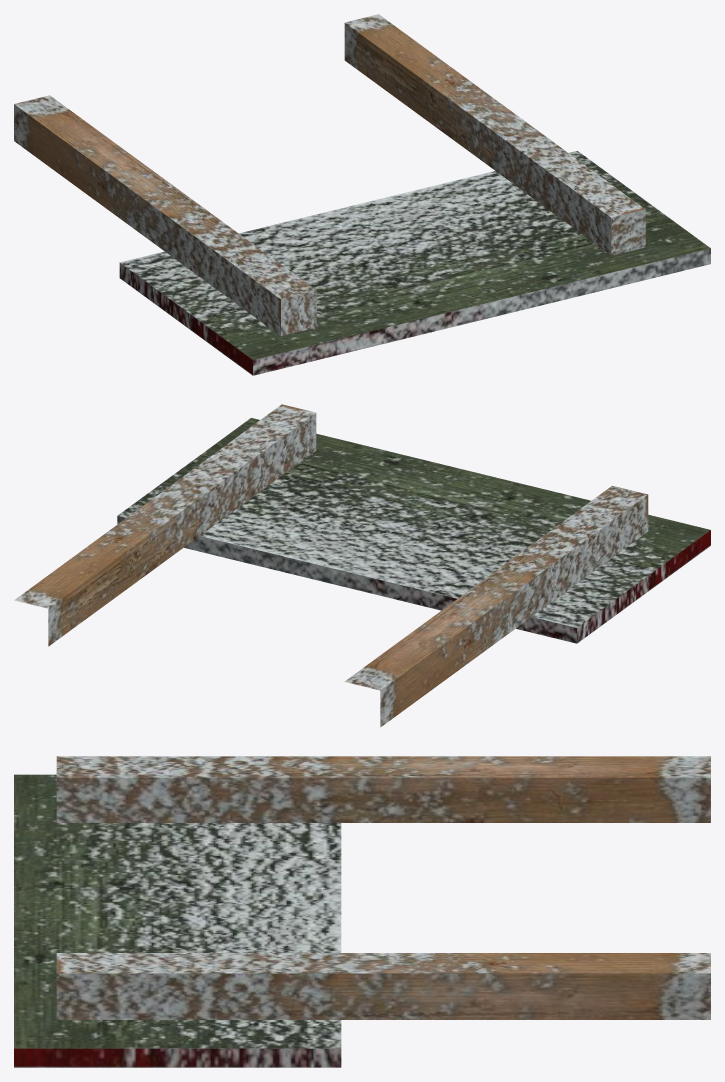
File: sign_minefield3_snow.glb
3 renders of one model, top to bottom at view 1: azimuth 30°, elevation 25°; view 2: azimuth 150°, elevation 25°; view 3: azimuth 270°, elevation 25°, orthographic. The views are drawn at different scales.
Size of the model in its own units: 23.78 by 2.66 by 25.56.
Materials: 2 (2 with a texture image).
